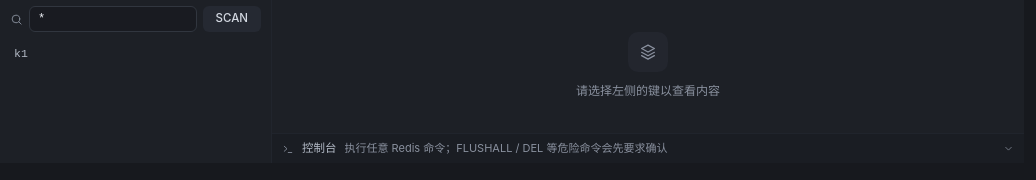
Test: DbPanel Redis states › key detail loading shows pending instead of the pick-a-key placeholder
Step 1. Click the element with class "nx-row" → (21,54), box [14,47,28,60]
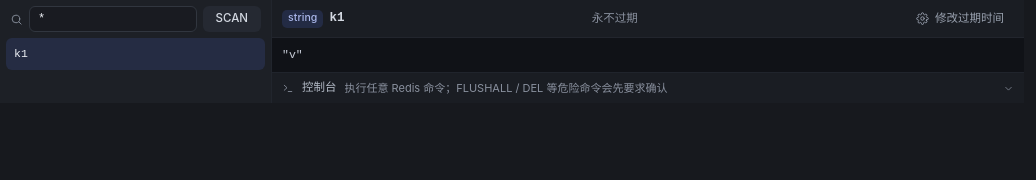
Check: the text "请选择左侧的键以查看内容" is gone
